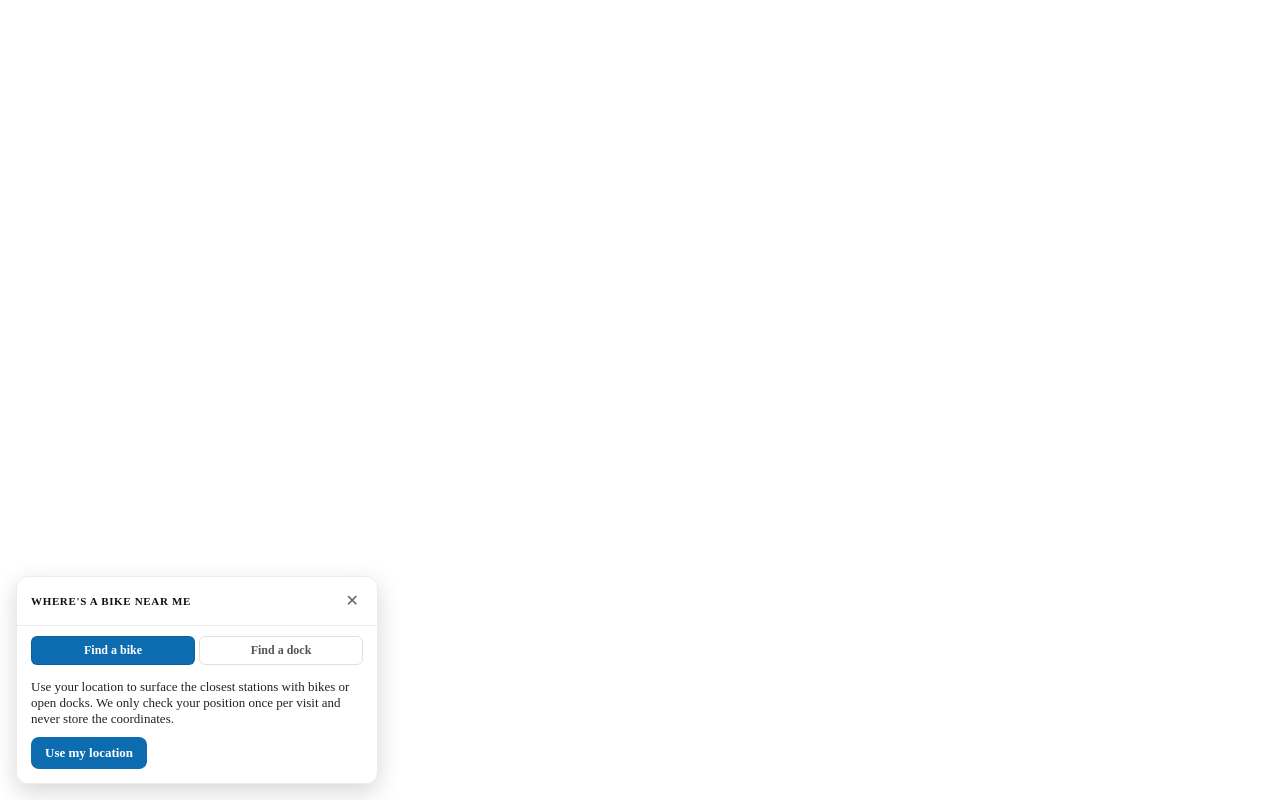
Test: NearbyStationsSheet › shows the consent prompt on first open and requires a click to fetch location
Step 1. Click the button with test id "nearby-sheet-request" → [89, 753], box left=31, top=737, right=147, bottom=769
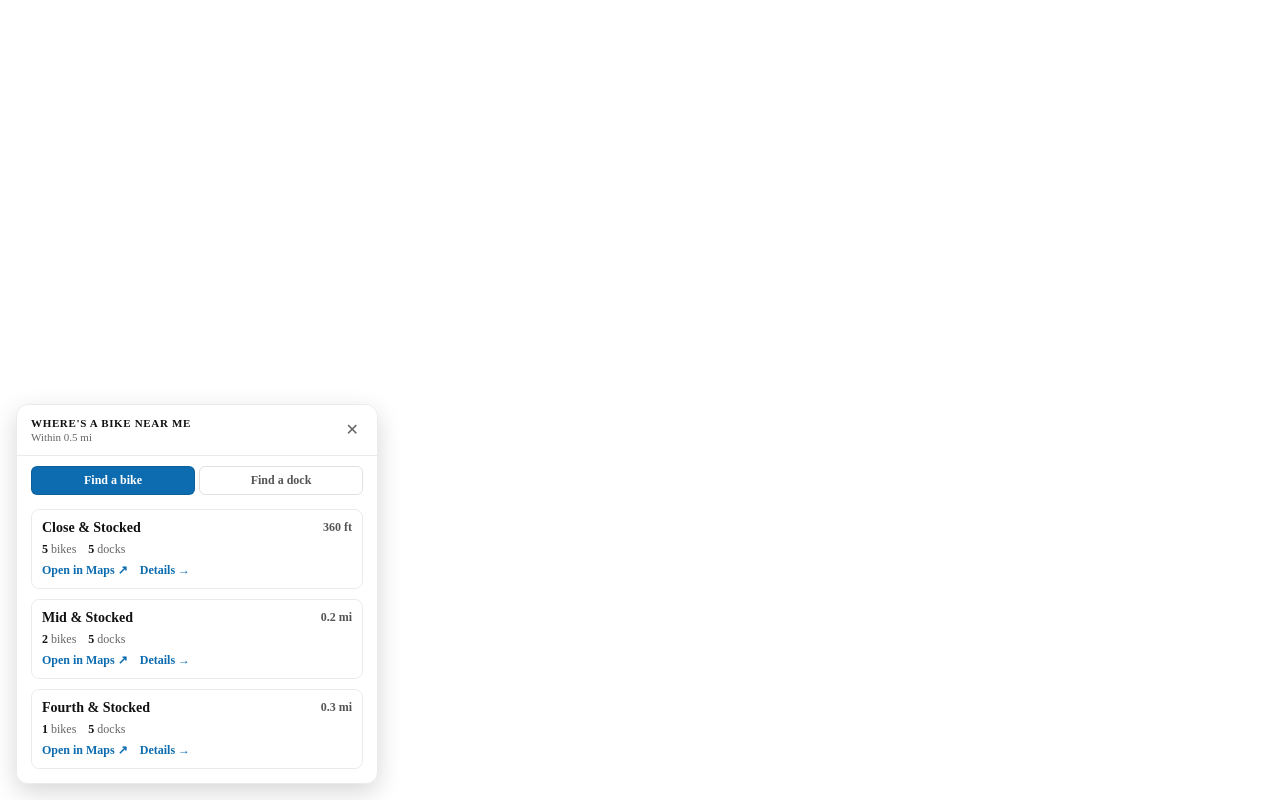
Expected: the list with test id "nearby-sheet-results" is shown, left=31, top=509, right=363, bottom=769
